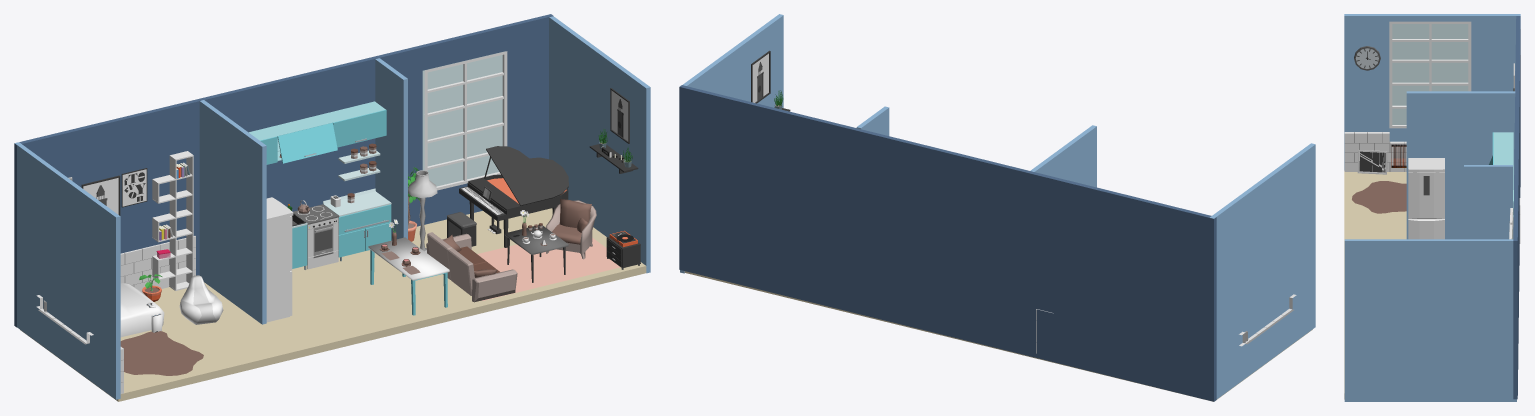
3 renders of one model, left to right at view 1: azimuth 30°, elevation 25°; view 2: azimuth 150°, elevation 25°; view 3: azimuth 270°, elevation 25°, orthographic. The views are drawn at different scales.
Visible parts, largest first — view 1: Meubles, MurCote, MurFond, Sol; view 2: MurFond, MurCote, Meubles, Sol; view 3: MurCote, Meubles, Sol, MurFond.
Part boxes in pixels (left/top/right/bottom): Meubles: left=36, top=51, right=640, bottom=393; MurCote: left=15, top=16, right=650, bottom=399; MurFond: left=14, top=14, right=553, bottom=327; Sol: left=20, top=208, right=646, bottom=401; MurFond: left=679, top=85, right=1216, bottom=401; MurCote: left=680, top=14, right=1315, bottom=399; Meubles: left=751, top=50, right=1296, bottom=353; Sol: left=684, top=271, right=1312, bottom=401; MurCote: left=1344, top=14, right=1520, bottom=401; Meubles: left=1344, top=21, right=1520, bottom=243; Sol: left=1344, top=171, right=1406, bottom=399; MurFond: left=1513, top=16, right=1520, bottom=399.
Size of the model in its own units: 12.66 by 4.16 by 4.12.
Materials: 7 (4 with a texture image).
